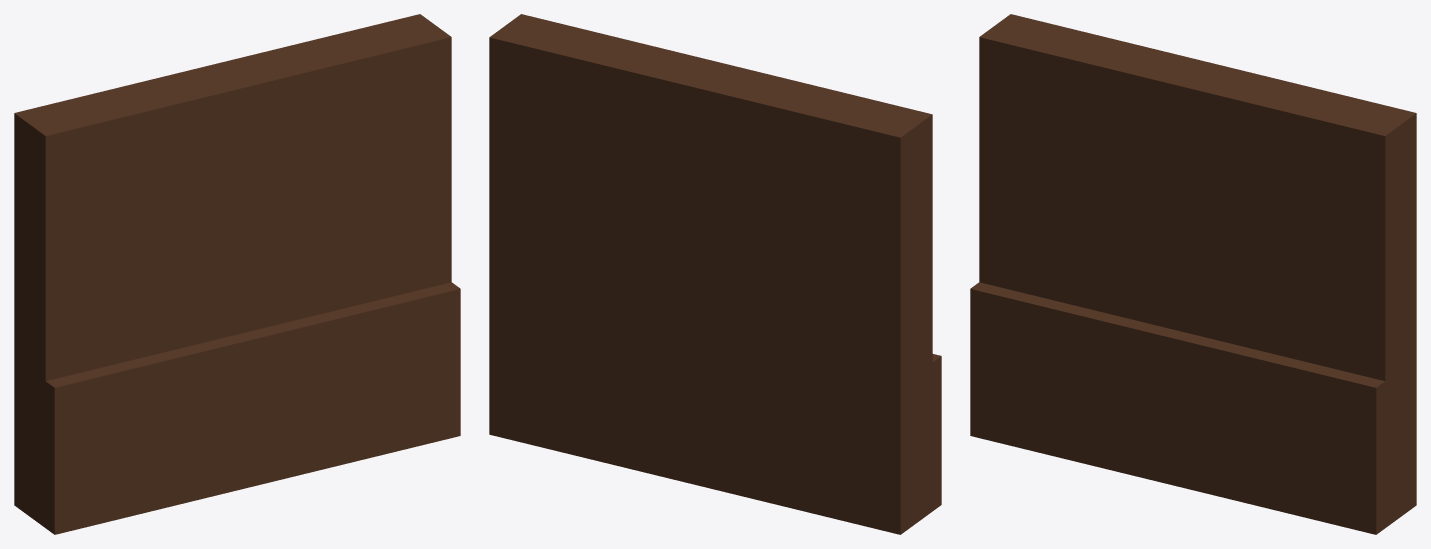
Rendered from interior_pub_backshelf.glb.
The picture shows the model from 3 angles, left to right: view 1: azimuth 30°, elevation 25°; view 2: azimuth 150°, elevation 25°; view 3: azimuth 330°, elevation 25°; orthographic projection.
Parts seen in each view (by area): view 1: interior_pub_backshelf; view 2: interior_pub_backshelf; view 3: interior_pub_backshelf.
Part boxes in pixels (x1=…): interior_pub_backshelf: x1=14, y1=14, x2=460, y2=534; interior_pub_backshelf: x1=489, y1=14, x2=941, y2=534; interior_pub_backshelf: x1=970, y1=14, x2=1416, y2=534.
Bounding box in the file's own units: 2.6 × 2.4 × 0.45.
1 material, 1 textured.
